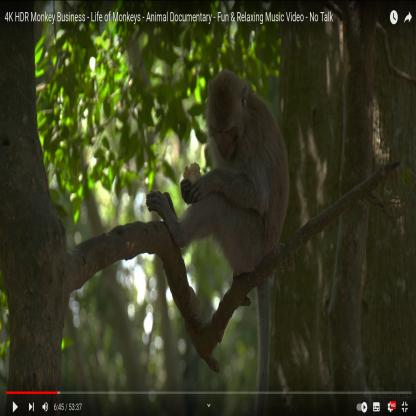monkey: (143, 69, 291, 285)
